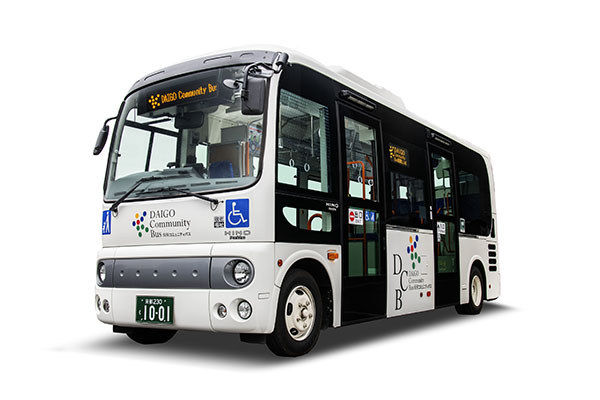destination: (145, 73, 216, 111)
